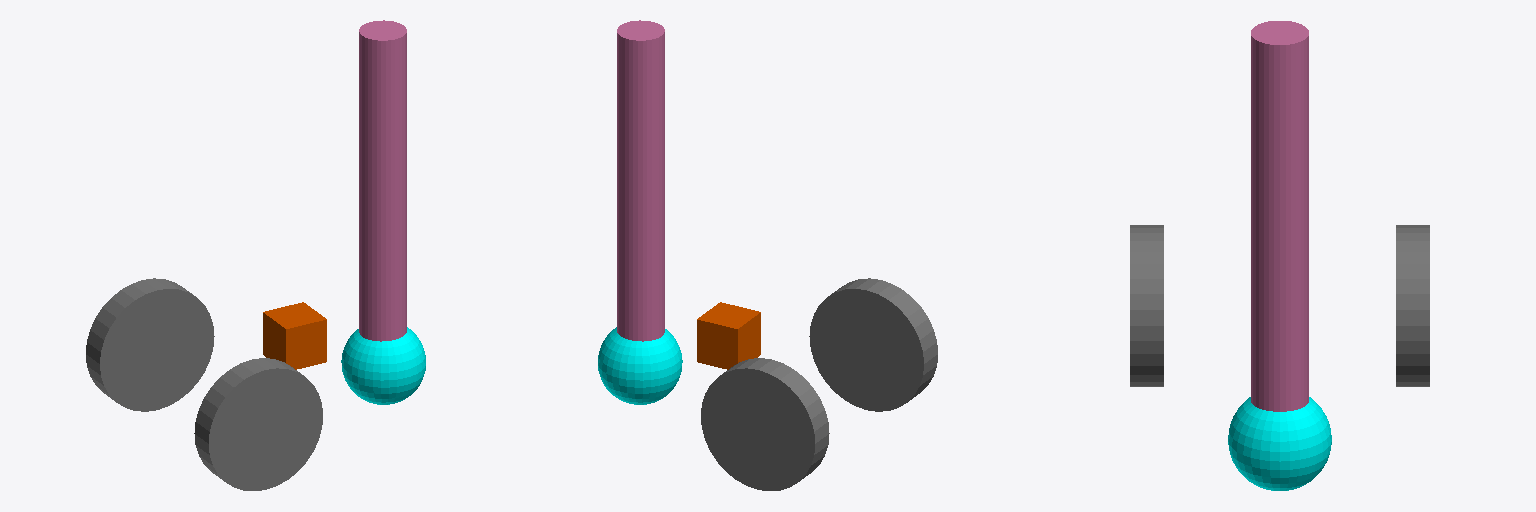
The robot description file, URDF, robot "twr":
<?xml version="1.0" ?>
<!-- =================================================================================== -->
<!-- |    This document was autogenerated by xacro from two_wheeled_robot_nav2.urdf.xacro | -->
<!-- |    EDITING THIS FILE BY HAND IS NOT RECOMMENDED                                 | -->
<!-- =================================================================================== -->
<robot name="twr">
  <!-- ********************** ROBOT BASE *********************************  -->
  <link name="base_link">
    <visual>
      <origin rpy="1.5707963267949 0 3.141592654" xyz="0 0 -0.05"/>
      <geometry>
        <mesh filename="file://[local-path]/dev_ws/install/two_wheeled_robot/share/two_wheeled_robot/meshes/robot_base.stl"/>
      </geometry>
      <material name="Red">
        <color rgba="1.0 0.0 0.0 1.0"/>
      </material>
    </visual>
    <collision>
      <geometry>
        <box size="0.7 0.39 0.2"/>
      </geometry>
    </collision>
    <inertial>
      <origin rpy="1.5707963267948966 0 1.5707963267948966" xyz="0 0 0"/>
      <mass value="15.0"/>
      <inertia ixx="0.6624999999999999" ixy="0.0" ixz="0.0" iyy="0.8026249999999999" iyz="0.0" izz="0.24012500000000003"/>
    </inertial>
  </link>
  <gazebo reference="base_link">
    <material>Gazebo/Red</material>
  </gazebo>
  <!-- ****************** ROBOT BASE FOOTPRINT ***************************  -->
  <!-- Define the center of the main robot chassis projected on the ground -->
  <link name="base_footprint">
    <!--<xacro:box_inertia m="0" w="0" d="0" h="0"/>-->
  </link>
  <!-- The base footprint of the robot is located underneath the chassis -->
  <joint name="base_joint" type="fixed">
    <parent link="base_footprint"/>
    <child link="base_link"/>
    <origin rpy="0 0 0" xyz="0.0 0.0 -0.19"/>
  </joint>
  <link name="drivewhl_l_link">
    <visual>
      <origin rpy="1.5707963267948966 0 0" xyz="0 0 0"/>
      <geometry>
        <cylinder length="0.06" radius="0.14"/>
      </geometry>
      <material name="Gray">
        <color rgba="0.5 0.5 0.5 1.0"/>
      </material>
    </visual>
    <collision>
      <origin rpy="1.5707963267948966 0 0" xyz="0 0 0"/>
      <geometry>
        <cylinder length="0.06" radius="0.14"/>
      </geometry>
    </collision>
    <inertial>
      <origin rpy="1.5707963267948966 0 0" xyz="0 0 0"/>
      <mass value="0.5"/>
      <inertia ixx="0.0026000000000000003" ixy="0" ixz="0" iyy="0.0026000000000000003" iyz="0" izz="0.004900000000000001"/>
    </inertial>
  </link>
  <!-- Connect the wheels to the base_link at the appropriate location, and 
         define a continuous joint to allow the wheels to freely rotate about
         an axis -->
  <joint name="drivewhl_l_joint" type="continuous">
    <parent link="base_link"/>
    <child link="drivewhl_l_link"/>
    <origin rpy="0 0 0" xyz="-0.221 0.23 -0.05"/>
    <axis xyz="0 1 0"/>
  </joint>
  <link name="drivewhl_r_link">
    <visual>
      <origin rpy="1.5707963267948966 0 0" xyz="0 0 0"/>
      <geometry>
        <cylinder length="0.06" radius="0.14"/>
      </geometry>
      <material name="Gray">
        <color rgba="0.5 0.5 0.5 1.0"/>
      </material>
    </visual>
    <collision>
      <origin rpy="1.5707963267948966 0 0" xyz="0 0 0"/>
      <geometry>
        <cylinder length="0.06" radius="0.14"/>
      </geometry>
    </collision>
    <inertial>
      <origin rpy="1.5707963267948966 0 0" xyz="0 0 0"/>
      <mass value="0.5"/>
      <inertia ixx="0.0026000000000000003" ixy="0" ixz="0" iyy="0.0026000000000000003" iyz="0" izz="0.004900000000000001"/>
    </inertial>
  </link>
  <!-- Connect the wheels to the base_link at the appropriate location, and 
         define a continuous joint to allow the wheels to freely rotate about
         an axis -->
  <joint name="drivewhl_r_joint" type="continuous">
    <parent link="base_link"/>
    <child link="drivewhl_r_link"/>
    <origin rpy="0 0 0" xyz="-0.221 -0.23 -0.05"/>
    <axis xyz="0 1 0"/>
  </joint>
  <!-- *********************** CASTER WHEEL ******************************  -->
  <!-- We add a caster wheel. It will be modeled as sphere.
       We define the wheel’s geometry, material and the joint to connect it to 
       base_link at the appropriate location. -->
  <link name="front_caster">
    <visual>
      <geometry>
        <sphere radius="0.09"/>
      </geometry>
      <material name="Cyan">
        <color rgba="0 1.0 1.0 1.0"/>
      </material>
    </visual>
    <collision>
      <origin rpy="0 0 0" xyz="0 0 0"/>
      <geometry>
        <sphere radius="0.09"/>
      </geometry>
    </collision>
    <inertial>
      <mass value="0.5"/>
      <inertia ixx="0.00162" ixy="0.0" ixz="0.0" iyy="0.00162" iyz="0.0" izz="0.00162"/>
    </inertial>
  </link>
  <gazebo reference="front_caster">
    <mu1>0.01</mu1>
    <mu2>0.01</mu2>
    <material>Gazebo/White</material>
  </gazebo>
  <joint name="caster_joint" type="fixed">
    <parent link="base_link"/>
    <child link="front_caster"/>
    <origin rpy="0 0 0" xyz="0.217 0.0 -0.1"/>
  </joint>
  <!-- *********************** IMU SETUP *********************************  -->
  <!-- Each sensor must be attached to a link.                              -->
  <link name="imu_link">
    <visual>
      <geometry>
        <box size="0.1 0.1 0.1"/>
      </geometry>
    </visual>
    <collision>
      <geometry>
        <box size="0.1 0.1 0.1"/>
      </geometry>
    </collision>
    <inertial>
      <origin rpy="1.5707963267948966 0 1.5707963267948966" xyz="0 0 0"/>
      <mass value="0.1"/>
      <inertia ixx="0.0001666666666666667" ixy="0.0" ixz="0.0" iyy="0.0001666666666666667" iyz="0.0" izz="0.0001666666666666667"/>
    </inertial>
  </link>
  <joint name="imu_joint" type="fixed">
    <parent link="base_link"/>
    <child link="imu_link"/>
    <origin xyz="0 0 0.01"/>
  </joint>
  <gazebo reference="imu_link">
    <gravity>true</gravity>
    <sensor name="twr_imu" type="imu">
      <always_on>true</always_on>
      <update_rate>100</update_rate>
      <visualize>true</visualize>
      <imu>
        <orientation>
          <x>
            <noise type="gaussian">
              <mean>0.0</mean>
              <stddev>2e-3</stddev>
            </noise>
          </x>
          <y>
            <noise type="gaussian">
              <mean>0.0</mean>
              <stddev>2e-3</stddev>
            </noise>
          </y>
          <z>
            <noise type="gaussian">
              <mean>0.0</mean>
              <stddev>2e-3</stddev>
            </noise>
          </z>
        </orientation>
        <angular_velocity>
          <x>
            <noise type="gaussian">
              <mean>0.0</mean>
              <stddev>2e-4</stddev>
            </noise>
          </x>
          <y>
            <noise type="gaussian">
              <mean>0.0</mean>
              <stddev>2e-4</stddev>
            </noise>
          </y>
          <z>
            <noise type="gaussian">
              <mean>0.0</mean>
              <stddev>2e-4</stddev>
            </noise>
          </z>
        </angular_velocity>
        <linear_acceleration>
          <x>
            <noise type="gaussian">
              <mean>0.0</mean>
              <stddev>1.7e-2</stddev>
            </noise>
          </x>
          <y>
            <noise type="gaussian">
              <mean>0.0</mean>
              <stddev>1.7e-2</stddev>
            </noise>
          </y>
          <z>
            <noise type="gaussian">
              <mean>0.0</mean>
              <stddev>1.7e-2</stddev>
            </noise>
          </z>
        </linear_acceleration>
      </imu>
      <plugin filename="libgazebo_ros_imu_sensor.so" name="two_wheeled_robot_imu">
        <initial_orientation_as_reference>false</initial_orientation_as_reference>
        <frame_name>imu_link</frame_name>
        <ros>
          <namespace>/imu</namespace>
          <remapping>~/out:=data</remapping>
        </ros>
      </plugin>
    </sensor>
  </gazebo>
  <!-- *********************** LIDAR SETUP **********************************  -->
  <link name="base_scan">
    <inertial>
      <origin rpy="0 0 0" xyz="0 0 0"/>
      <mass value="0.125"/>
      <inertia ixx="0.001" ixy="0" ixz="0" iyy="0.001" iyz="0" izz="0.001"/>
    </inertial>
    <collision>
      <origin rpy="0 0 0" xyz="0 0 0"/>
      <geometry>
        <cylinder length="0.75" radius="0.0508"/>
      </geometry>
    </collision>
    <visual>
      <origin rpy="0 0 0" xyz="0 0 0"/>
      <geometry>
        <cylinder length="0.75" radius="0.0508"/>
      </geometry>
    </visual>
  </link>
  <joint name="lidar_joint" type="fixed">
    <parent link="base_link"/>
    <child link="base_scan"/>
    <origin rpy="0 0 0" xyz="0.215 0.0 0.30"/>
  </joint>
  <gazebo reference="base_scan">
    <sensor name="lidar" type="ray">
      <always_on>true</always_on>
      <visualize>true</visualize>
      <update_rate>5</update_rate>
      <ray>
        <scan>
          <horizontal>
            <samples>120</samples>
            <resolution>1.000000</resolution>
            <min_angle>-3.14159</min_angle>
            <max_angle>3.14159</max_angle>
          </horizontal>
        </scan>
        <range>
          <min>0.3</min>
          <max>15.0</max>
          <resolution>0.015</resolution>
        </range>
        <noise>
          <type>gaussian</type>
          <mean>0.0</mean>
          <stddev>0.01</stddev>
        </noise>
      </ray>
      <plugin filename="libgazebo_ros_ray_sensor.so" name="scan">
        <ros>
          <remapping>~/out:=scan</remapping>
        </ros>
        <output_type>sensor_msgs/LaserScan</output_type>
        <frame_name>base_scan</frame_name>
      </plugin>
    </sensor>
  </gazebo>
  <gazebo reference="base_scan">
    <mu1>0.01</mu1>
    <mu2>0.01</mu2>
    <material>Gazebo/Black</material>
  </gazebo>
  <!-- *********************** WHEEL ODOMETRY ***************************    -->
  <gazebo>
    <plugin filename="libgazebo_ros_diff_drive.so" name="two_wheeled_robot_diff_drive">
      <update_rate>30</update_rate>
      <!-- wheels -->
      <left_joint>drivewhl_l_joint</left_joint>
      <right_joint>drivewhl_r_joint</right_joint>
      <!-- kinematics -->
      <wheel_separation>0.52</wheel_separation>
      <wheel_diameter>0.28</wheel_diameter>
      <!-- limits -->
      <max_wheel_torque>20</max_wheel_torque>
      <max_wheel_acceleration>1.0</max_wheel_acceleration>
      <!-- Receive velocity commands on this ROS topic -->
      <command_topic>cmd_vel</command_topic>
      <!-- output -->
      <!-- When false, publish no wheel odometry data to a ROS topic -->
      <publish_odom>true</publish_odom>
      <!-- When true, publish coordinate transform from odom to base_footprint -->
      <!-- I usually use the robot_localization package to publish this transform -->
      <publish_odom_tf>true</publish_odom_tf>
      <!-- When true, publish coordinate transform from base_link to the wheels -->
      <!-- The robot_state_publisher package is often used to publish this transform -->
      <publish_wheel_tf>true</publish_wheel_tf>
      <odometry_topic>odom</odometry_topic>
      <odometry_frame>odom</odometry_frame>
      <robot_base_frame>base_link</robot_base_frame>
      <odometry_source>1</odometry_source>
      <!--ros>
        <remapping>odom:=wheel/odometry</remapping>
      </ros-->
      <ros>
      <remapping>cmd_vel:=diff_drive/cmd_vel</remapping>
    </ros>
    </plugin>
  </gazebo>
</robot>

--- Render facts (derived) ---
3 views of the same robot in one strip: view 1: azimuth 30°, elevation 25°; view 2: azimuth 150°, elevation 25°; view 3: azimuth 270°, elevation 25° (orthographic).
Model twr with 7 links and 6 joints (2 continuous, 4 fixed), rooted at base_footprint, posed every joint at zero.
Links seen in each view (by area): view 1: base_scan, drivewhl_r_link, drivewhl_l_link, front_caster, imu_link; view 2: base_scan, drivewhl_l_link, drivewhl_r_link, front_caster, imu_link; view 3: base_scan, front_caster, drivewhl_l_link, drivewhl_r_link.
Boxes of the visible links, x1,y1,x2,y2 form: base_scan: [359, 20, 406, 341]; drivewhl_r_link: [194, 358, 322, 490]; drivewhl_l_link: [86, 278, 214, 411]; front_caster: [341, 327, 425, 404]; imu_link: [263, 302, 326, 369]; base_scan: [617, 20, 664, 341]; drivewhl_l_link: [701, 358, 829, 490]; drivewhl_r_link: [809, 278, 937, 411]; front_caster: [598, 327, 682, 404]; imu_link: [697, 302, 760, 369]; base_scan: [1251, 21, 1308, 411]; front_caster: [1228, 397, 1331, 490]; drivewhl_l_link: [1396, 225, 1429, 386]; drivewhl_r_link: [1130, 225, 1163, 386].
Size in the robot's own frame: 0.668 by 0.52 by 0.865 metres.
Geometry: only primitive shapes (box / cylinder / sphere) drawn; not drawn: 1 mesh visual (reference in a form the renderer does not follow).